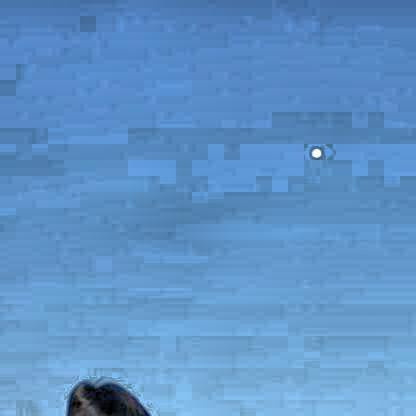golfball: (307, 144, 321, 158)
